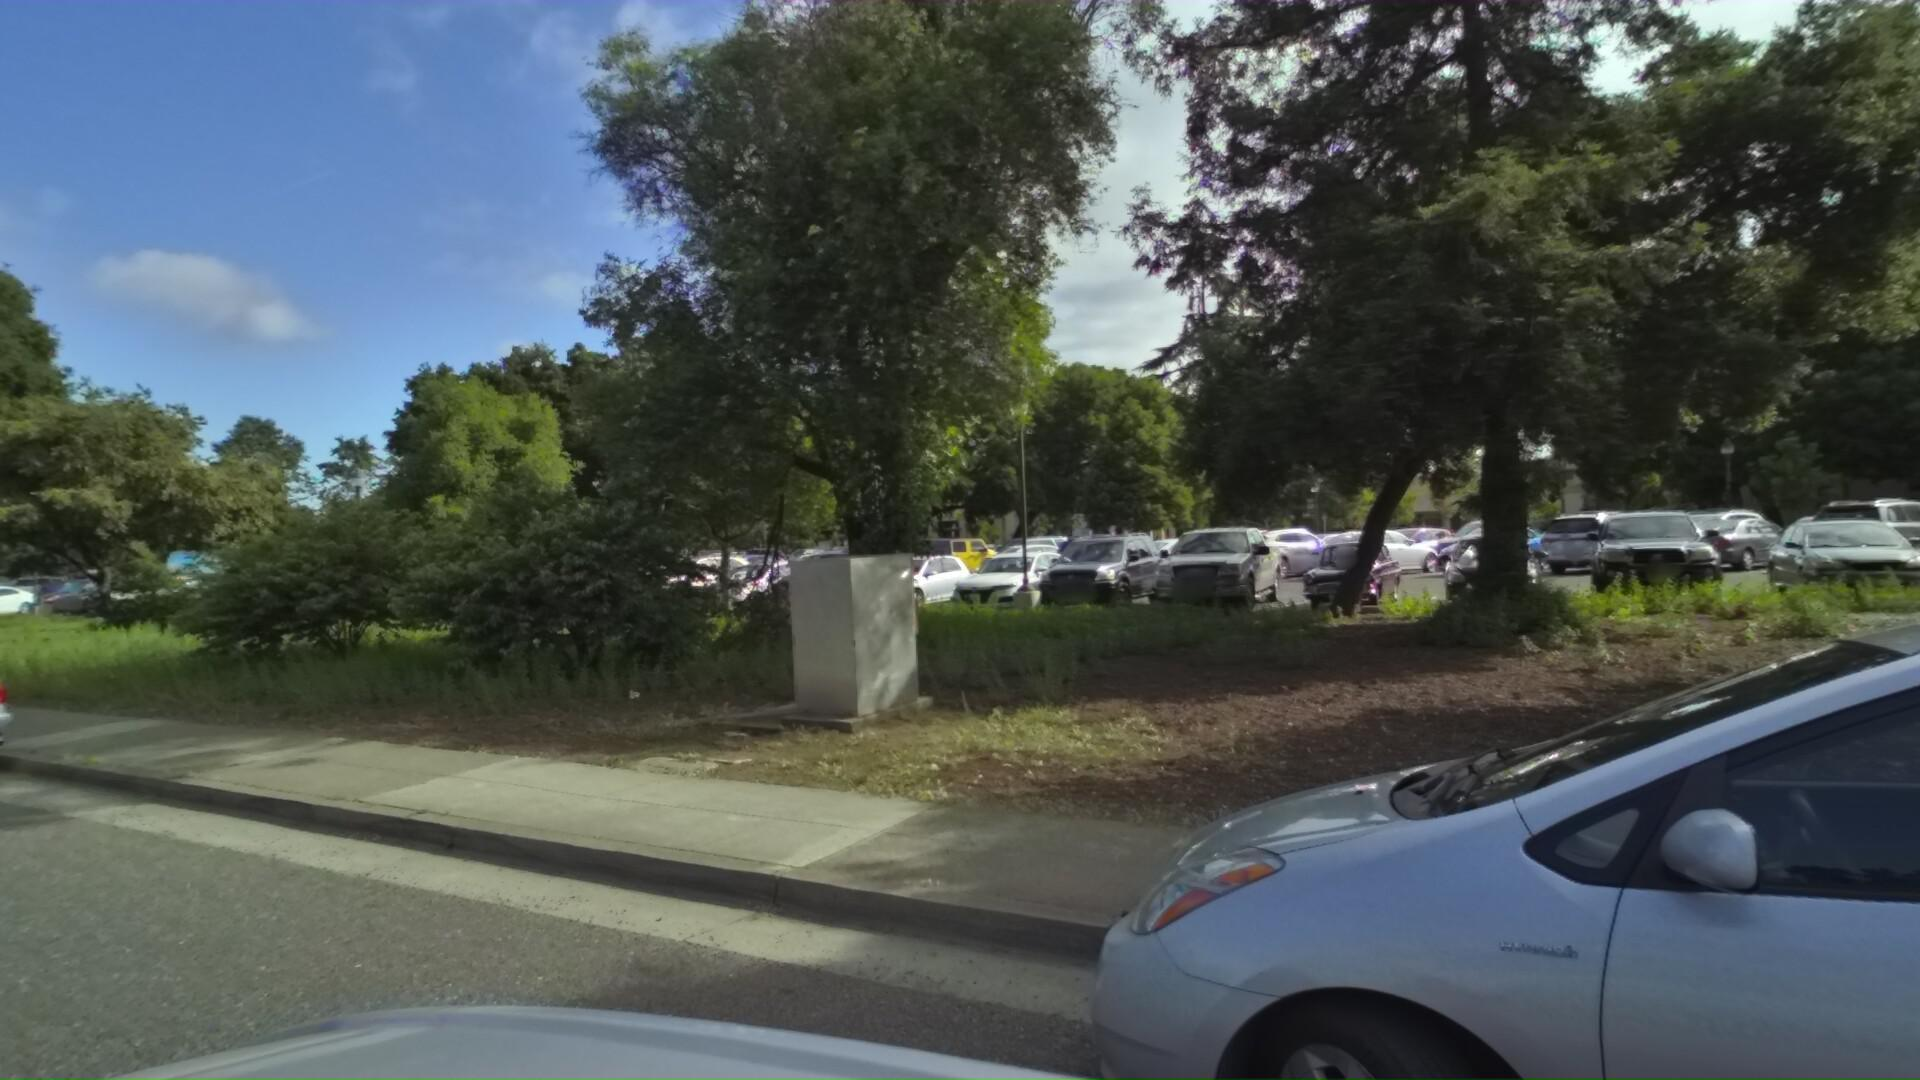car: (973, 531, 1920, 1080), (0, 589, 38, 828)
